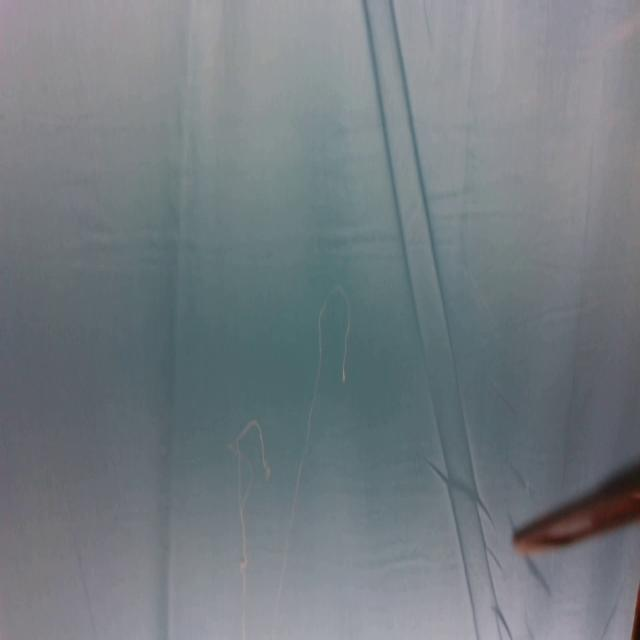crease: (360, 1, 502, 640)
